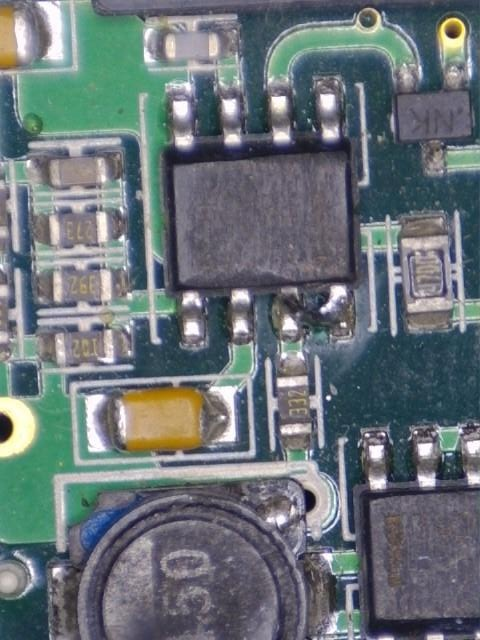pcb_defect: (272, 284, 355, 342)
